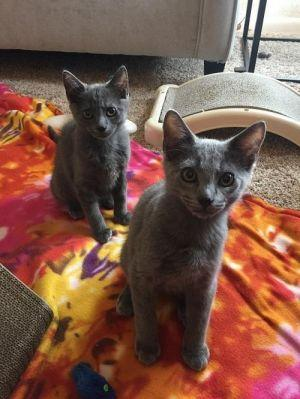rblue: (150, 107, 273, 235)
